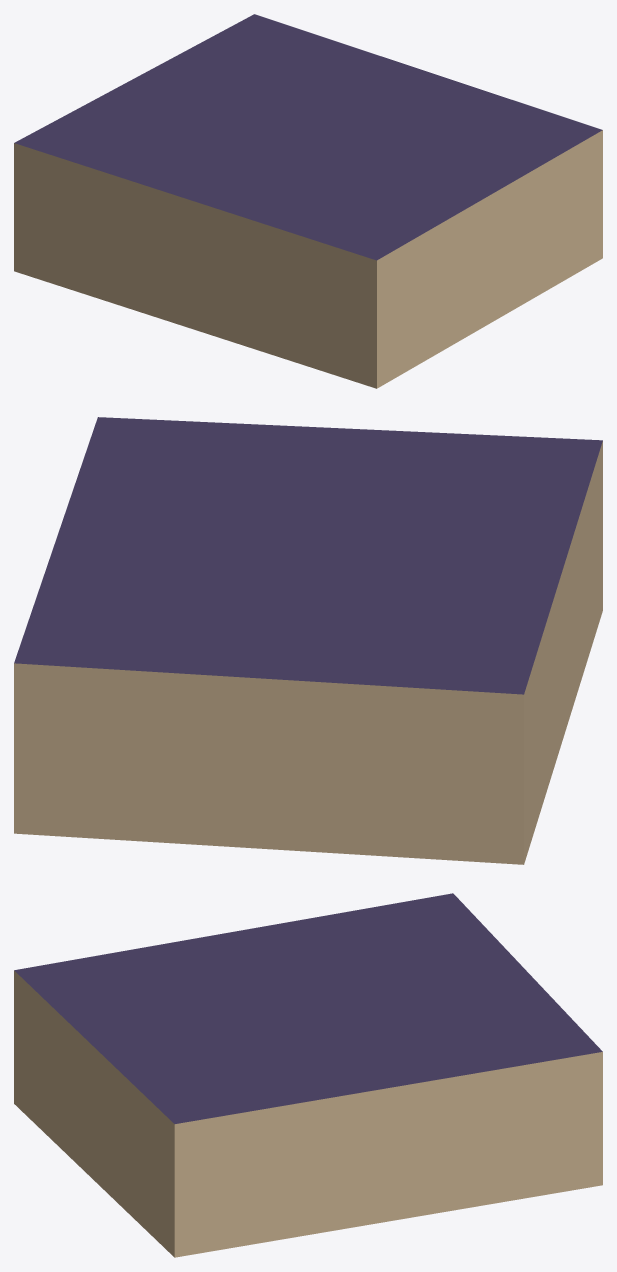
The picture shows the model from 3 angles, top to bottom: view 1: azimuth 30°, elevation 25°; view 2: azimuth 150°, elevation 25°; view 3: azimuth 270°, elevation 25°; orthographic projection. The views are drawn at different scales.
Parts seen in each view (by area): view 1: campus/b-001-0; view 2: campus/b-001-0; view 3: campus/b-001-0.
Part boxes in pixels (box(x1,y1,x2,y2)): campus/b-001-0: box(14, 14, 602, 388); campus/b-001-0: box(14, 417, 602, 864); campus/b-001-0: box(14, 893, 602, 1257).
Size of the model in its own units: 11.14 by 3 by 12.
